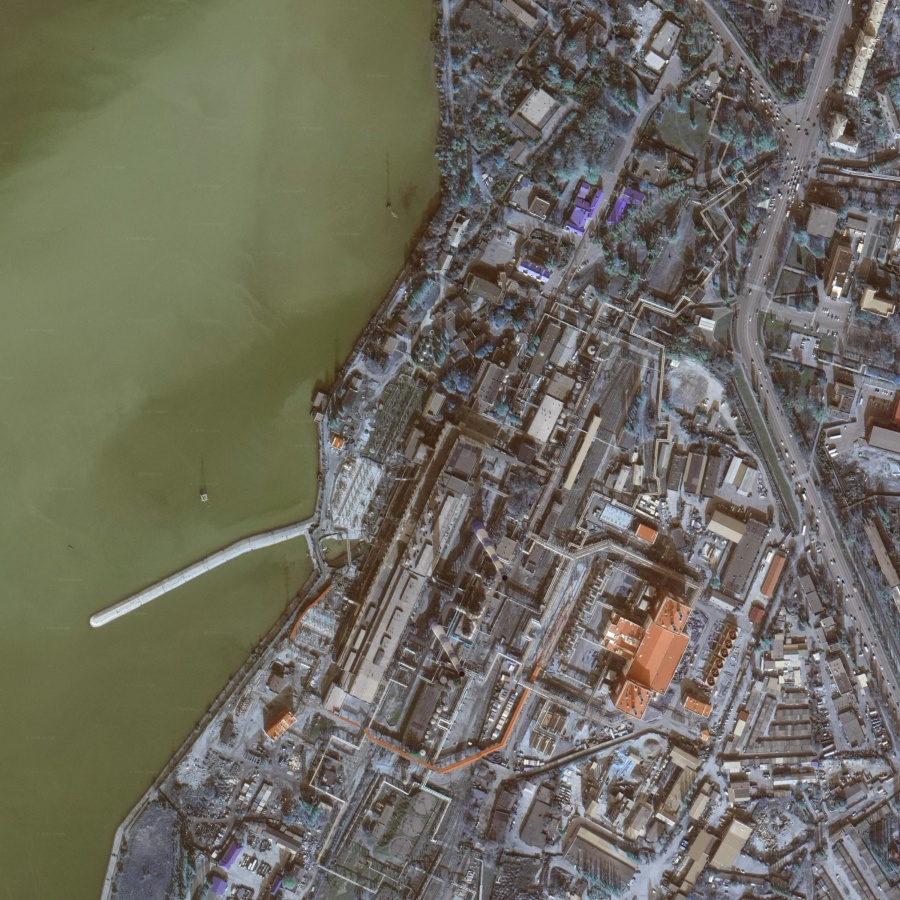PowerPlant: (296, 370, 569, 779)
